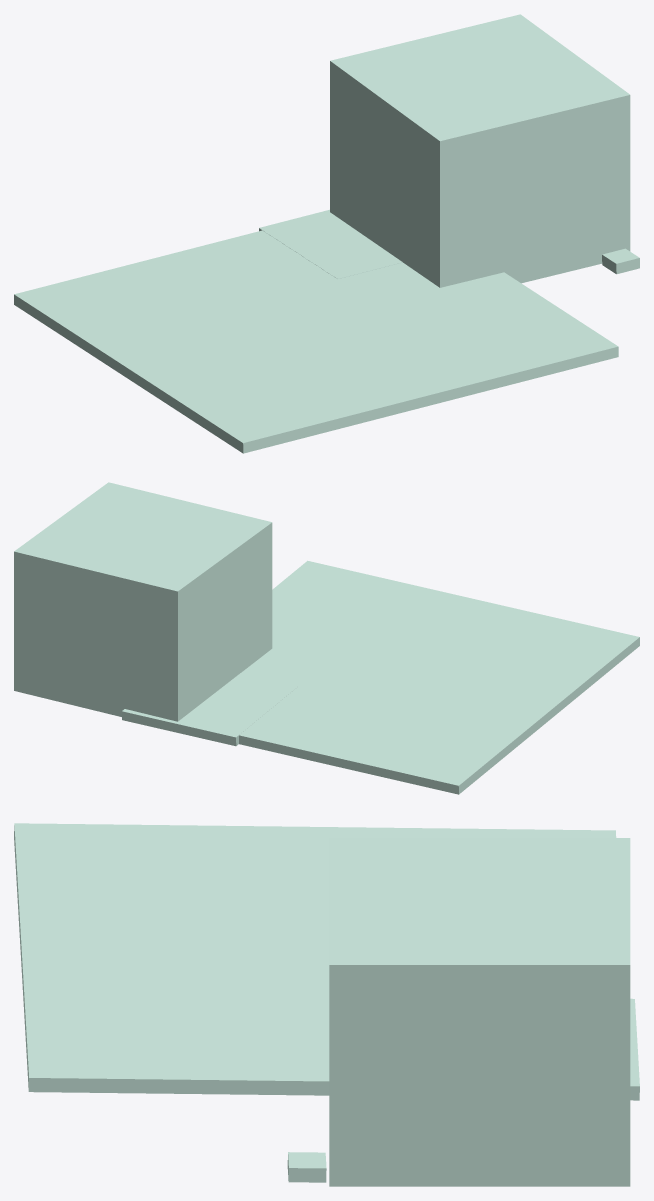
3 renders of one model, top to bottom at view 1: azimuth 30°, elevation 25°; view 2: azimuth 150°, elevation 25°; view 3: azimuth 270°, elevation 25°, orthographic. The views are drawn at different scales.
Visible parts, largest first — view 1: Renderer Node; view 2: Renderer Node; view 3: Renderer Node.
Boxes of the visible parts, <box> form: Renderer Node: <box>14,14,639,453</box>; Renderer Node: <box>14,482,639,794</box>; Renderer Node: <box>14,823,639,1186</box>.
Size of the model in its own units: 2.02 by 0.6094 by 1.56.
